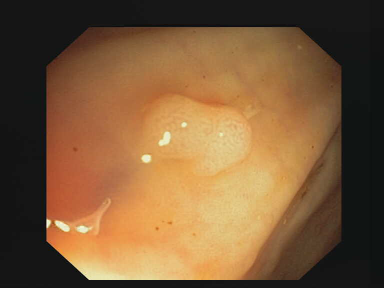polyp: (127, 63, 281, 186)
